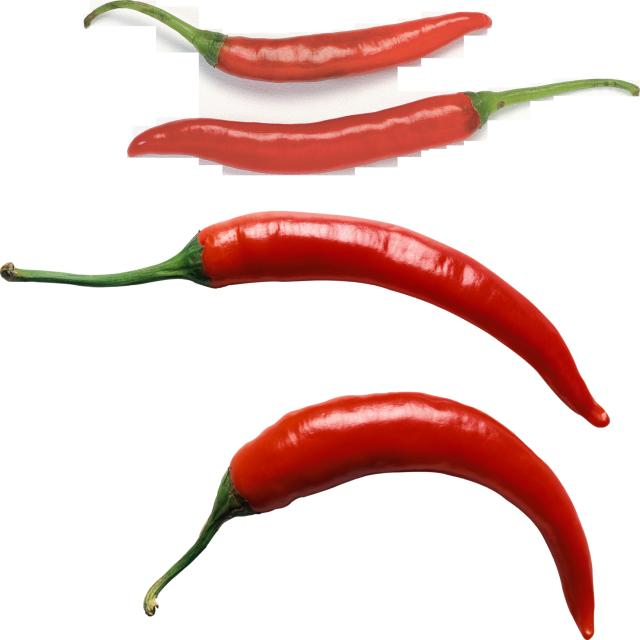red chili: (0, 211, 610, 428), (143, 393, 595, 640), (127, 78, 640, 173), (83, 0, 492, 81)
